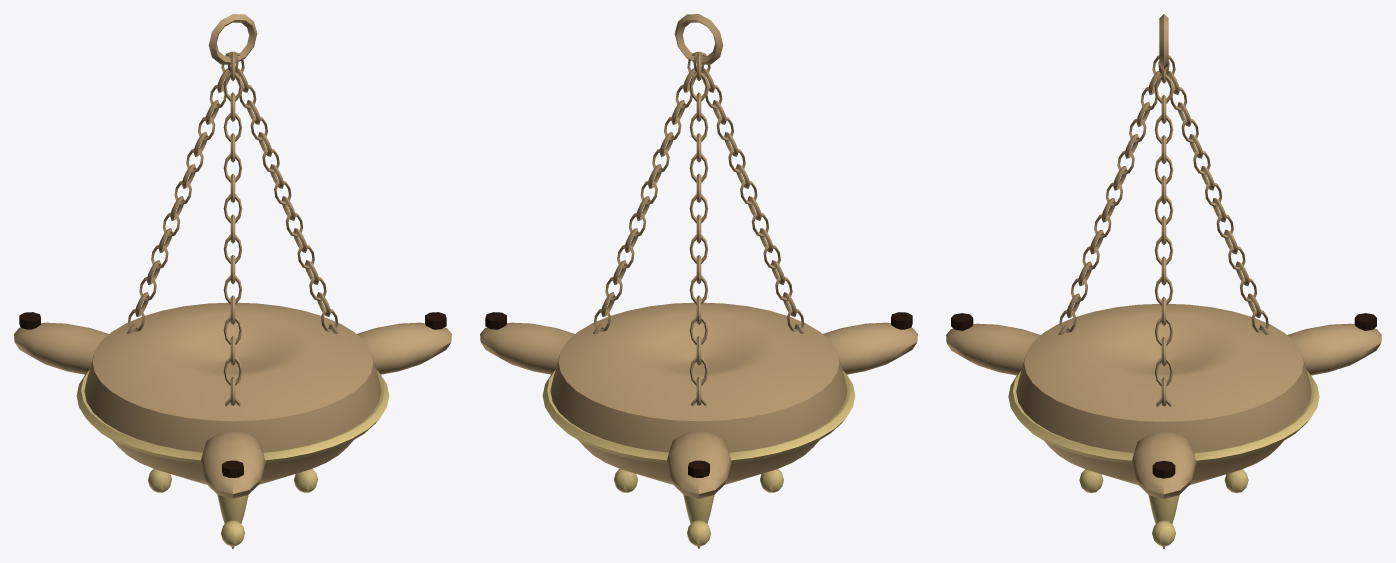
The model's file is obj_kit_hanglamp.glb.
The picture shows the model from 3 angles, left to right: view 1: azimuth 30°, elevation 25°; view 2: azimuth 150°, elevation 25°; view 3: azimuth 270°, elevation 25°; orthographic projection.
Visible parts, largest first — view 1: body, Torus, Sphere, Sphere.002, Sphere.004, ch.002, ch.001, ch, Torus.055, drop; view 2: body, Torus, Sphere, Sphere.004, Sphere.002, ch.001, ch.002, ch, Torus.055, drop; view 3: body, Torus, Sphere.002, Sphere.004, Sphere, ch, ch.001, ch.002, drop.
Part boxes in pixels (x1,y1,x2,y2): body: (84, 302, 381, 484); Torus: (76, 369, 389, 463); Sphere: (357, 322, 451, 374); Sphere.002: (14, 322, 108, 374); Sphere.004: (200, 431, 265, 498); ch.002: (223, 52, 242, 406); ch.001: (127, 51, 238, 333); ch: (228, 51, 338, 333); Torus.055: (208, 14, 257, 64); drop: (217, 495, 248, 548); body: (550, 302, 847, 484); Torus: (542, 369, 855, 463); Sphere: (480, 322, 574, 374); Sphere.004: (823, 322, 917, 374); Sphere.002: (666, 431, 731, 498); ch.001: (689, 52, 708, 406); ch.002: (693, 51, 804, 333); ch: (593, 51, 703, 333); Torus.055: (674, 14, 723, 64); drop: (683, 495, 714, 548); body: (1016, 304, 1311, 484); Torus: (1008, 370, 1319, 464); Sphere.002: (1287, 323, 1381, 375); Sphere.004: (946, 323, 1040, 375); Sphere: (1131, 432, 1196, 498); ch: (1154, 68, 1173, 406); ch.001: (1158, 55, 1269, 334); ch.002: (1058, 55, 1169, 334); drop: (1148, 495, 1179, 548).
Bounding box in the file's own units: 0.437 × 0.63 × 0.4677.
